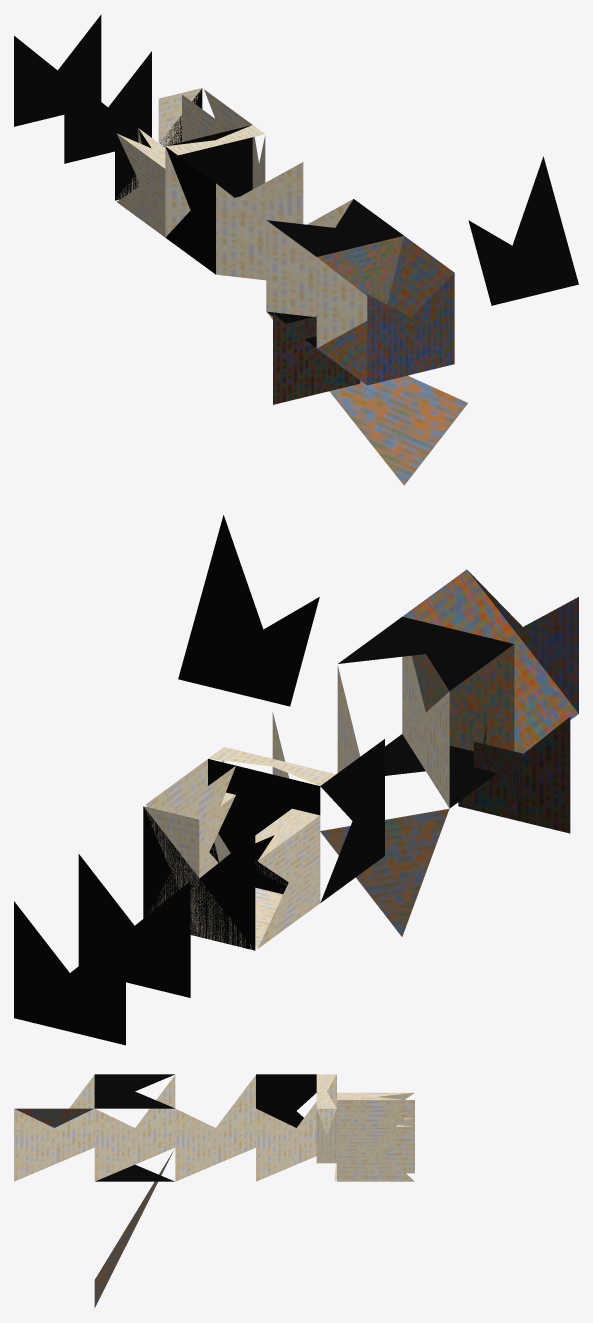
Rendered from town_geometry_type_31.obj.
3 renders of one model, top to bottom at view 1: azimuth 30°, elevation 25°; view 2: azimuth 150°, elevation 25°; view 3: azimuth 270°, elevation 25°, orthographic. The views are drawn at different scales.
Parts seen in each view (by area): view 1: face_list_045, face_list_014, face_list_013, face_list_000, face_list_004, face_list_025, face_list_029, face_list_042, face_list_012, face_list_028, face_list_030, face_list_033 (+8 smaller); view 2: face_list_045, face_list_013, face_list_000, face_list_025, face_list_005, face_list_004, face_list_012, face_list_036, face_list_037, face_list_024, face_list_042, face_list_028 (+7 smaller); view 3: face_list_037, face_list_029, face_list_028, face_list_027, face_list_030, face_list_038, face_list_012, face_list_013, face_list_032, face_list_045, face_list_025, face_list_036.
Part boxes in pixels (x1,y1,x2,y2): face_list_045: (267, 156, 578, 485); face_list_014: (367, 273, 454, 385); face_list_013: (167, 125, 403, 256); face_list_000: (14, 14, 101, 126); face_list_004: (64, 51, 151, 163); face_list_025: (317, 236, 454, 384); face_list_029: (216, 183, 353, 280); face_list_042: (273, 313, 360, 404); face_list_012: (165, 146, 316, 347); face_list_028: (266, 220, 316, 316); face_list_030: (165, 147, 303, 237); face_list_033: (367, 274, 454, 361); face_list_045: (178, 515, 449, 936); face_list_013: (208, 616, 513, 861); face_list_000: (14, 901, 125, 1045); face_list_025: (402, 569, 578, 753); face_list_005: (143, 806, 255, 950); face_list_004: (78, 854, 190, 997); face_list_012: (320, 734, 497, 902); face_list_036: (199, 808, 320, 949); face_list_037: (144, 759, 235, 936); face_list_024: (412, 644, 514, 751); face_list_042: (458, 690, 570, 833); face_list_028: (402, 655, 449, 808); face_list_037: (337, 1100, 414, 1181); face_list_029: (175, 1075, 255, 1181); face_list_028: (94, 1075, 175, 1181); face_list_027: (14, 1075, 94, 1181); face_list_030: (256, 1074, 336, 1181); face_list_038: (337, 1118, 414, 1181); face_list_012: (95, 1074, 316, 1181); face_list_013: (94, 1074, 174, 1108); face_list_032: (316, 1074, 336, 1163); face_list_045: (94, 1149, 174, 1307); face_list_025: (15, 1108, 93, 1127); face_list_036: (334, 1092, 414, 1181).
Bounding box in the file's own units: 224 × 207 × 448.
16 materials, 16 textured.
